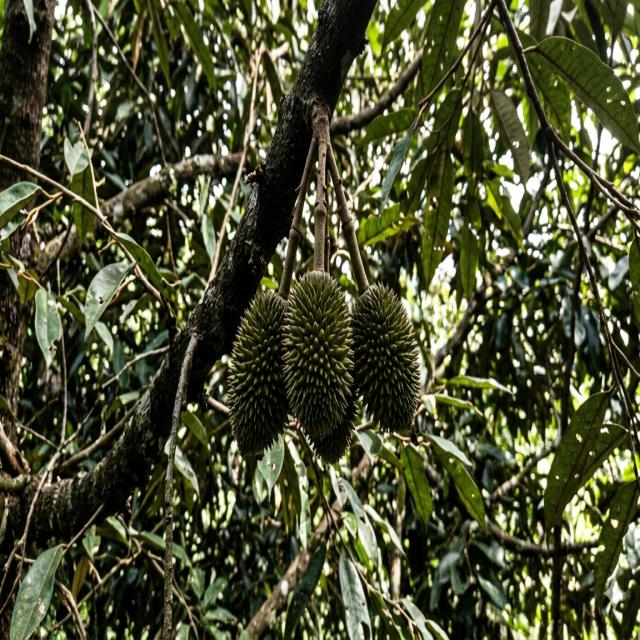immature: (281, 268, 356, 452), (226, 283, 293, 456), (348, 280, 422, 436)
